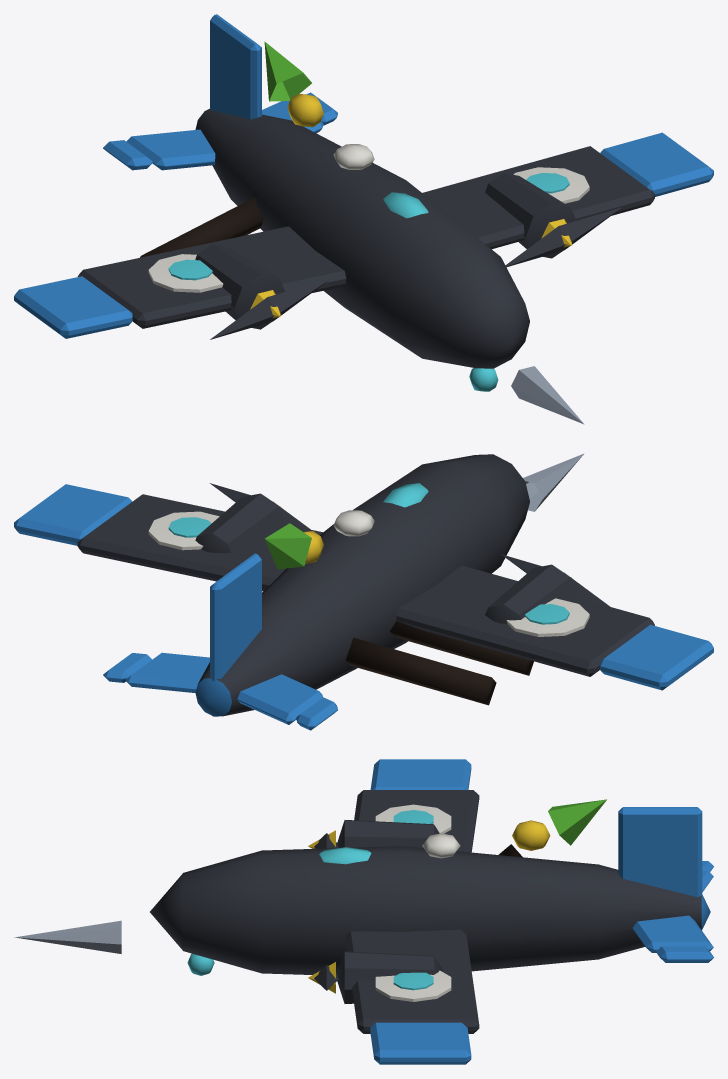
3 views of the same model, one above another, from view 1: azimuth 30°, elevation 25°; view 2: azimuth 150°, elevation 25°; view 3: azimuth 270°, elevation 25° (orthographic). The views are drawn at different scales.
Parts seen in each view (by area): view 1: as_0_base, as_1_torreta; view 2: as_0_base, as_1_torreta; view 3: as_0_base, as_1_torreta.
Boxes of the visible parts, x1,y1,x2,y2 form: as_0_base: (14, 14, 713, 424); as_1_torreta: (210, 207, 621, 339); as_0_base: (14, 453, 713, 730); as_1_torreta: (209, 483, 610, 606); as_0_base: (14, 759, 713, 1064); as_1_torreta: (308, 830, 338, 993).
Size of the model in its own units: 1.49 by 0.4148 by 1.5.
